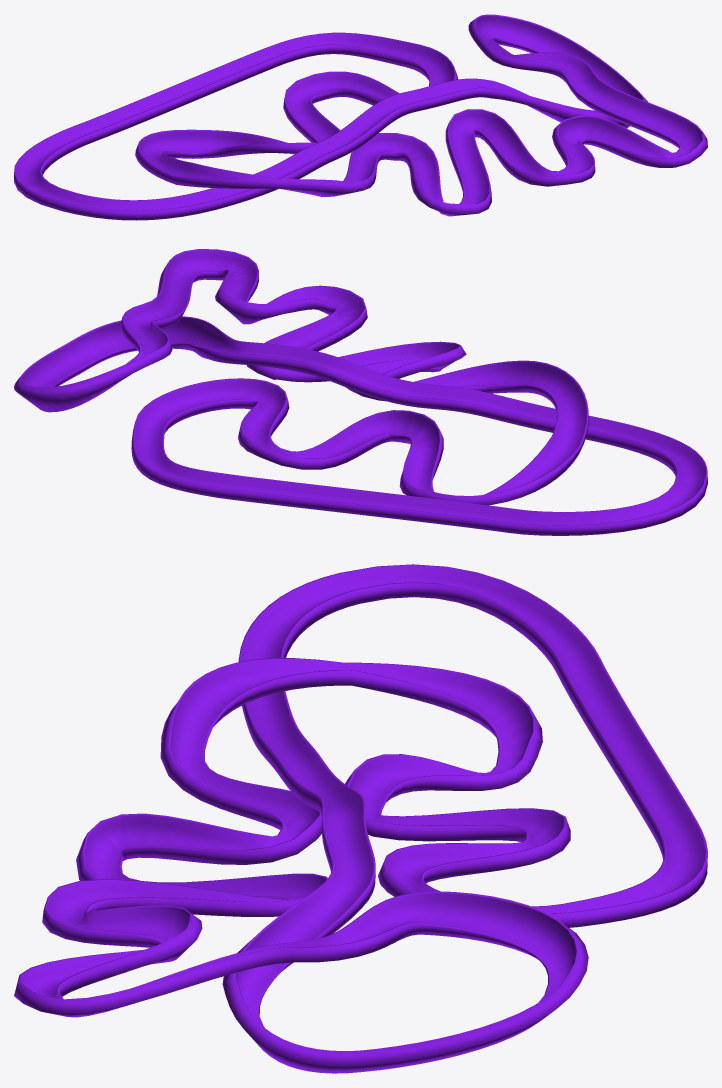
The model's file is pista_grande.gltf.
3 renders of one model, top to bottom at view 1: azimuth 30°, elevation 25°; view 2: azimuth 150°, elevation 25°; view 3: azimuth 270°, elevation 25°, orthographic. The views are drawn at different scales.
Parts seen in each view (by area): view 1: pista_grande; view 2: pista_grande; view 3: pista_grande.
Boxes of the visible parts, x1,y1,x2,y2 form: pista_grande: (14, 14, 707, 220); pista_grande: (14, 249, 707, 535); pista_grande: (14, 564, 707, 1073).
Bounding box in the file's own units: 981 × 108 × 635.
